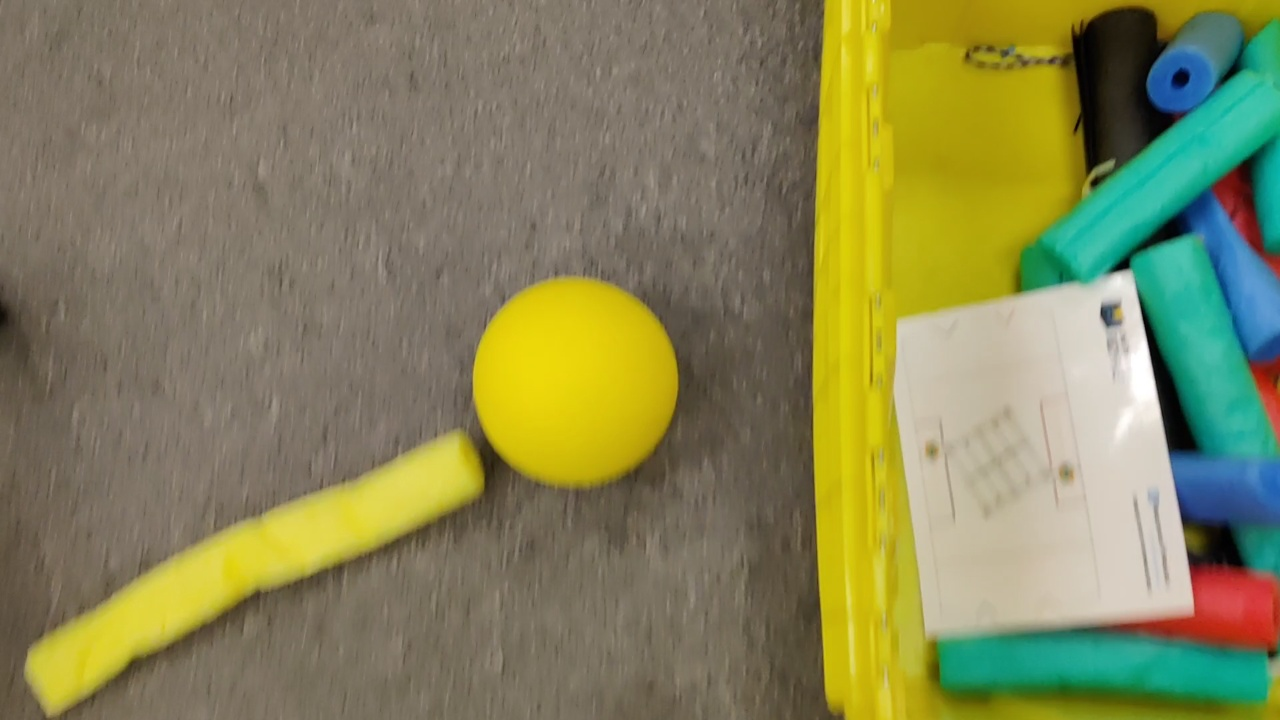Ball: (472, 278, 679, 489)
